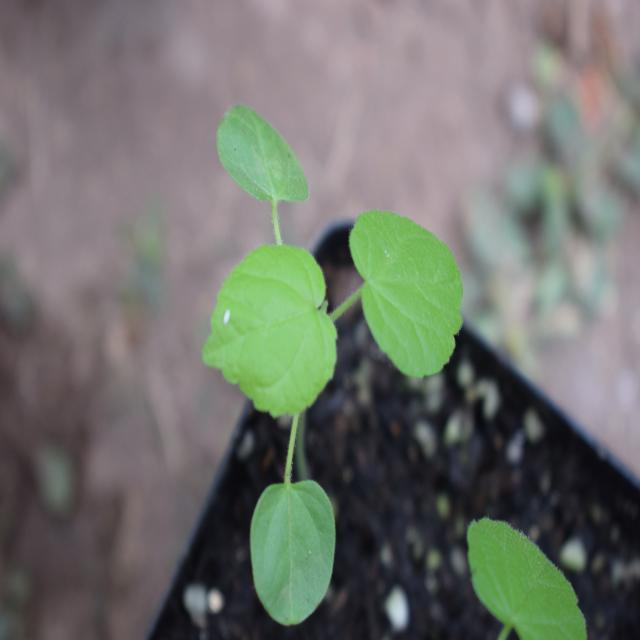abutilon theophrasti: (190, 111, 462, 578)
